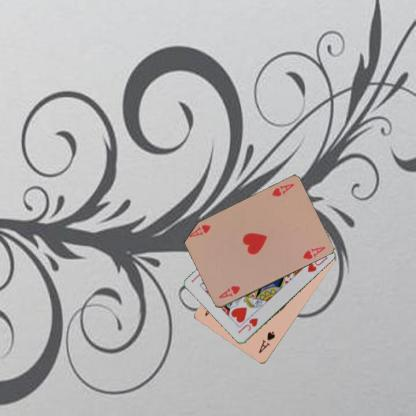Ah: (269, 181, 295, 199), (216, 283, 242, 300)
As: (256, 329, 276, 355)
Jh: (235, 316, 260, 334)
